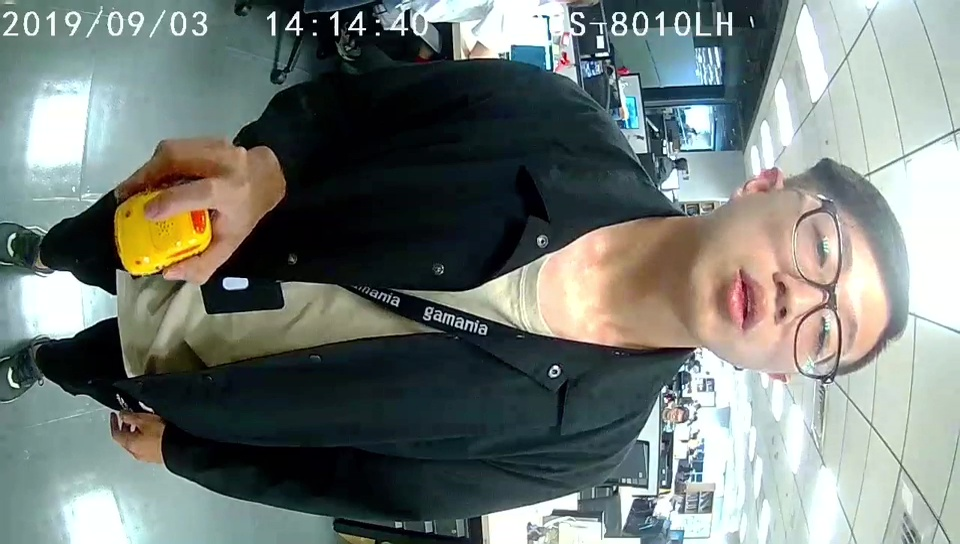car: (115, 185, 216, 276)
